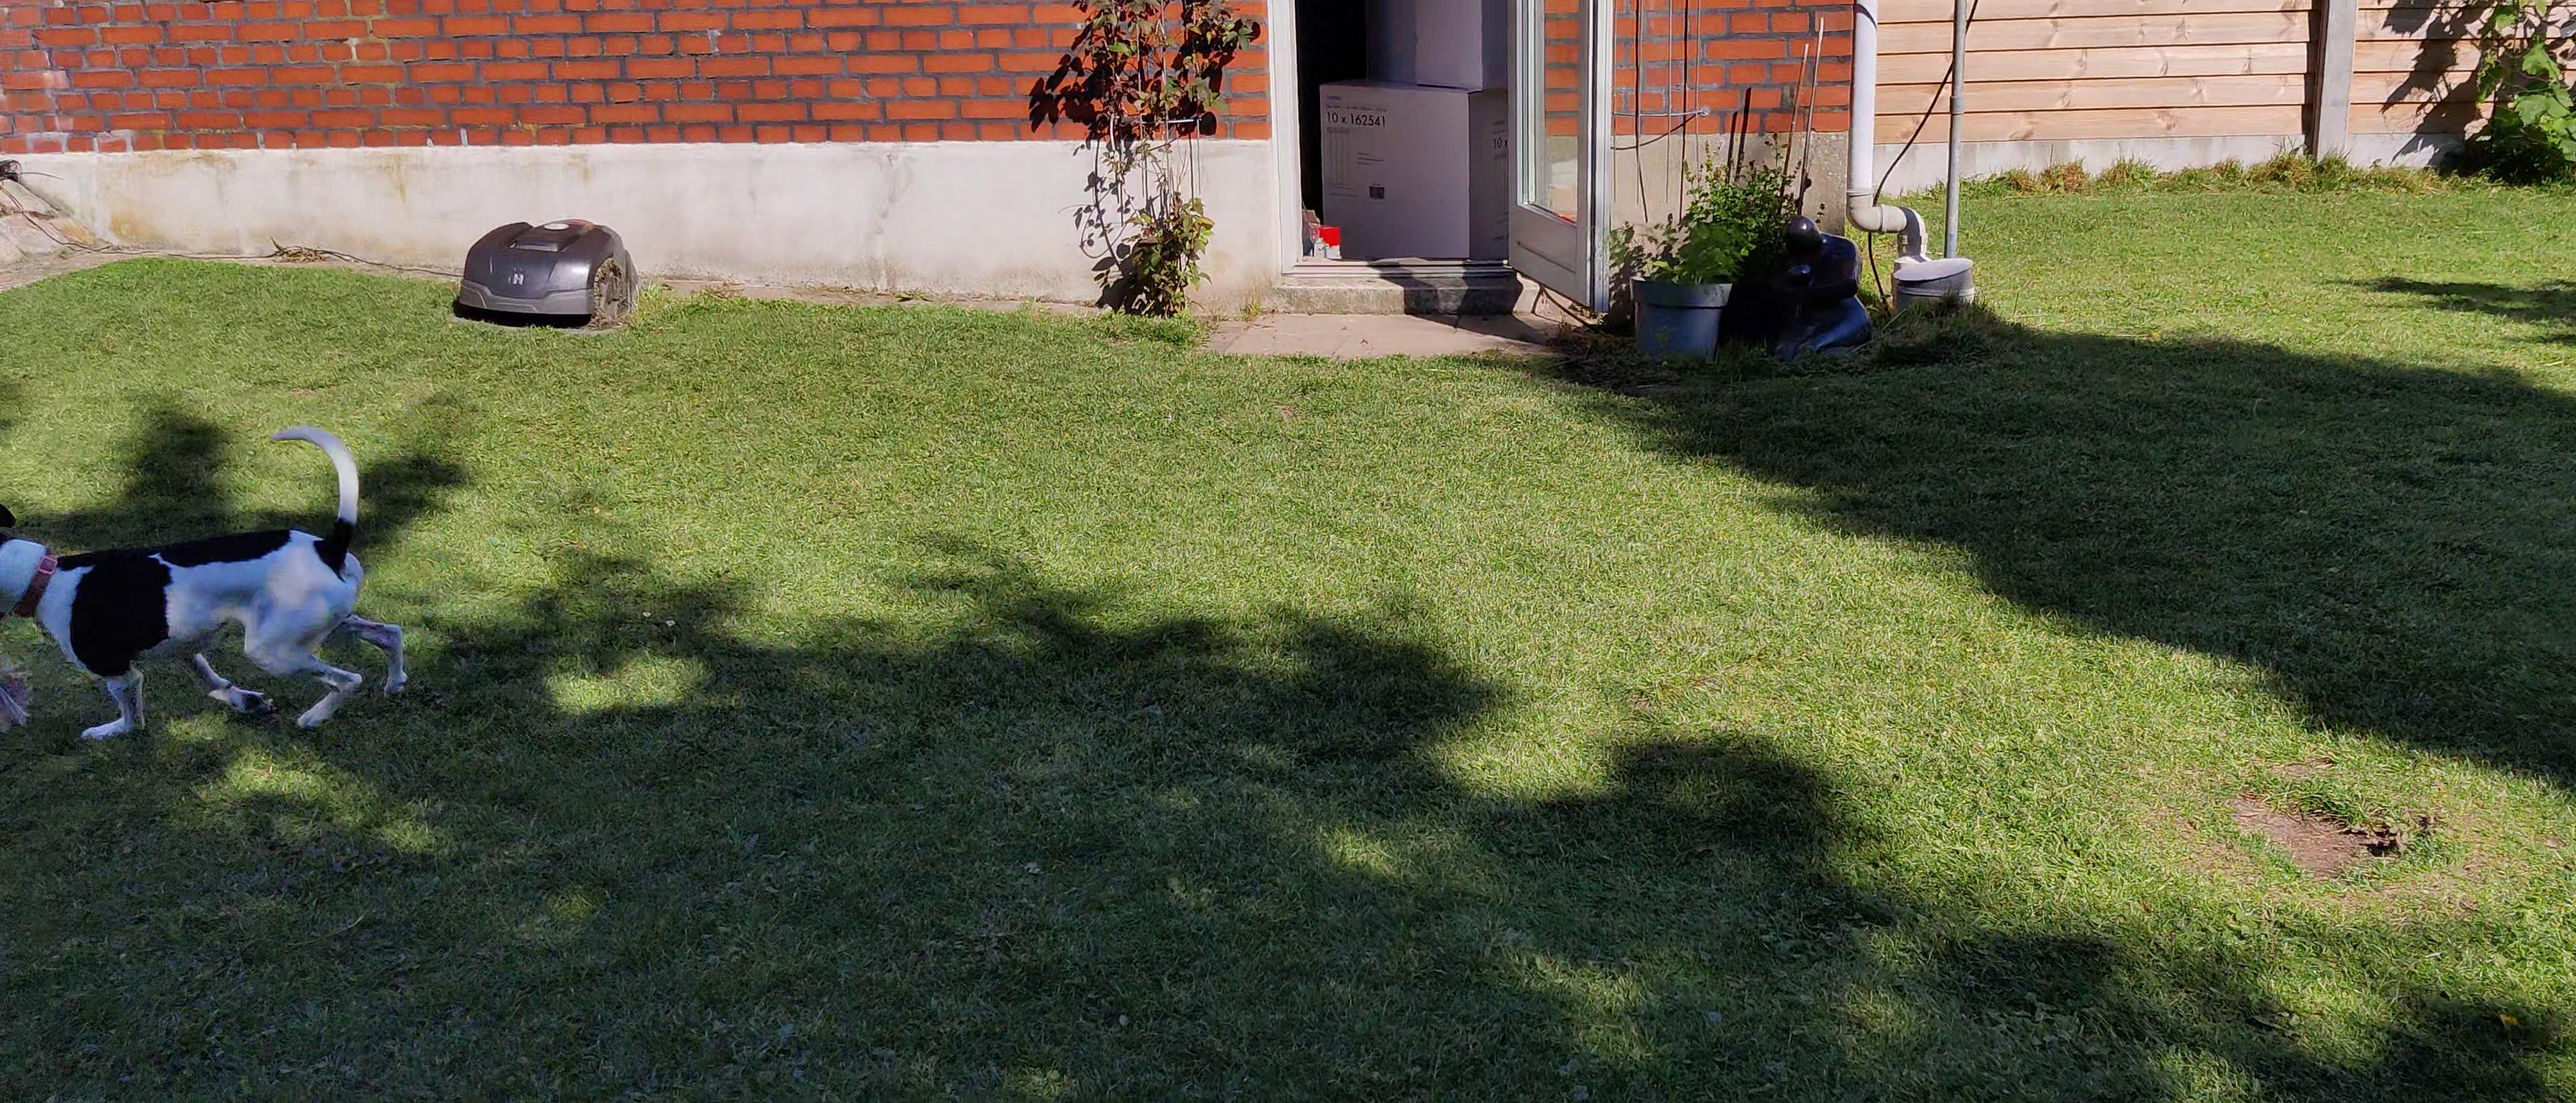Dog: (0, 421, 427, 748)
